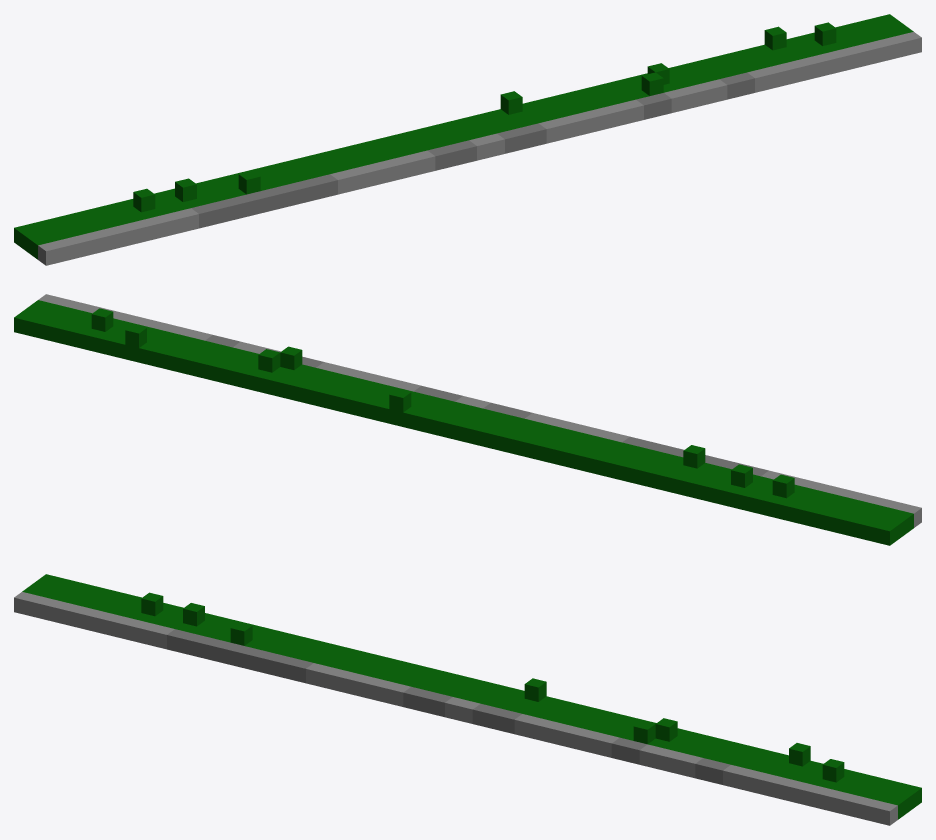
The model's file is obj_curb6.obj.
The picture shows the model from 3 angles, top to bottom: view 1: azimuth 30°, elevation 25°; view 2: azimuth 150°, elevation 25°; view 3: azimuth 330°, elevation 25°; orthographic projection.
Size of the model in its own units: 6.3 by 0.2 by 0.4.
1 material, 1 textured.
